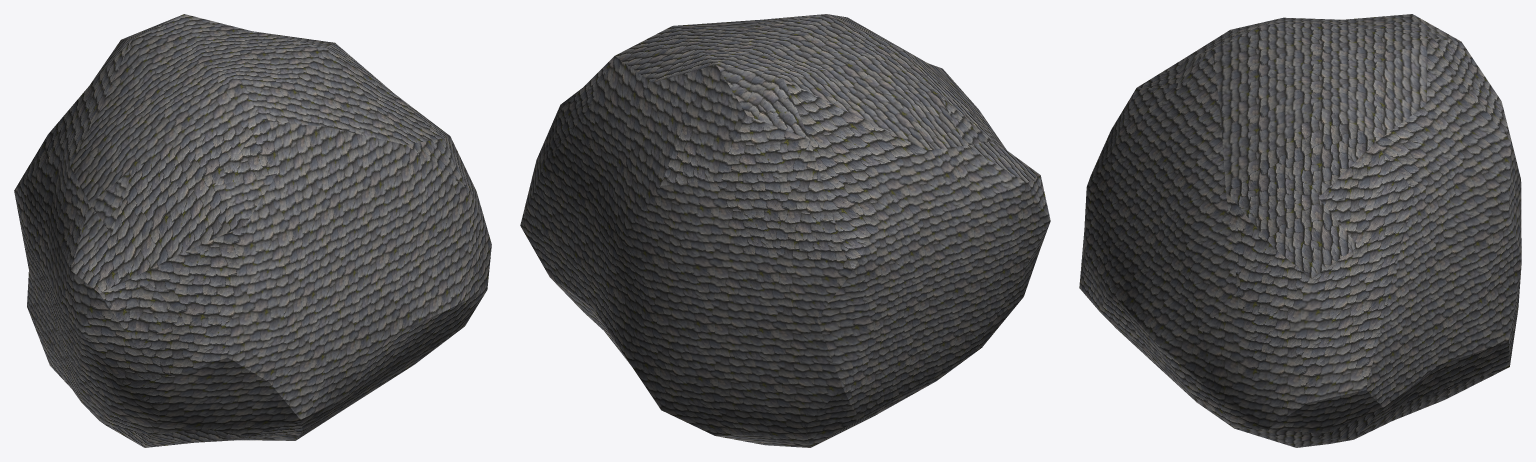
Rendered from grock_r.glb.
3 renders of one model, left to right at view 1: azimuth 30°, elevation 25°; view 2: azimuth 150°, elevation 25°; view 3: azimuth 270°, elevation 25°, orthographic. The views are drawn at different scales.
Visible parts, largest first — view 1: model; view 2: model; view 3: model.
Part boxes in pixels (x1=…): model: x1=14, y1=14, x2=491, y2=447; model: x1=520, y1=14, x2=1050, y2=447; model: x1=1079, y1=14, x2=1521, y2=447.
Bounding box in the file's own units: 5.17 × 3.85 × 4.22.
1 material, 1 textured.
